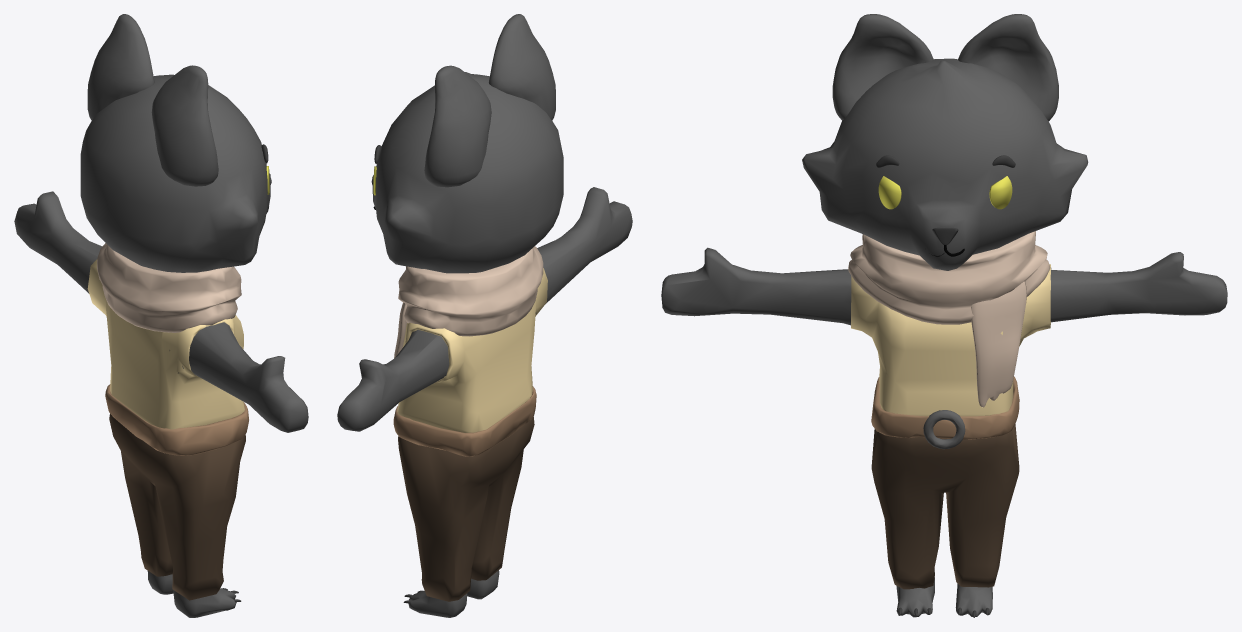
File: kolbein_PRueba_rig_unity.fbx
3 views of the same model, side by side, from view 1: azimuth 30°, elevation 25°; view 2: azimuth 150°, elevation 25°; view 3: azimuth 270°, elevation 25° (orthographic). The views are drawn at different scales.
Visible parts, largest first — view 1: Cabeza, pantalones, cuerpo, camiseta, bufanda copia, oreja der.001, oreja der, Torus.002; view 2: Cabeza, pantalones, cuerpo, camiseta, bufanda copia, oreja der, oreja der.001, Torus.002; view 3: Cabeza, cuerpo, pantalones, camiseta, bufanda copia, oreja der, oreja der.001, Cube, Torus.002, Torus.003.
Part boxes in pixels (left/top/right/bottom): Cabeza: left=80, top=74, right=270, bottom=272; pantalones: left=109, top=413, right=245, bottom=600; cuerpo: left=14, top=191, right=308, bottom=617; camiseta: left=87, top=259, right=244, bottom=429; bufanda copia: left=97, top=243, right=241, bottom=332; oreja der.001: left=151, top=65, right=218, bottom=186; oreja der: left=87, top=14, right=154, bottom=120; Torus.002: left=105, top=384, right=248, bottom=455; Cabeza: left=372, top=72, right=563, bottom=273; pantalones: left=398, top=416, right=534, bottom=601; cuerpo: left=337, top=187, right=632, bottom=617; camiseta: left=397, top=268, right=547, bottom=432; bufanda copia: left=398, top=246, right=543, bottom=336; oreja der: left=424, top=65, right=491, bottom=187; oreja der.001: left=488, top=14, right=555, bottom=120; Torus.002: left=393, top=386, right=536, bottom=456; Cabeza: left=802, top=58, right=1088, bottom=270; cuerpo: left=661, top=247, right=1227, bottom=617; pantalones: left=871, top=424, right=1019, bottom=589; camiseta: left=851, top=264, right=1051, bottom=416; bufanda copia: left=848, top=231, right=1050, bottom=324; oreja der: left=958, top=14, right=1058, bottom=121; oreja der.001: left=832, top=14, right=933, bottom=120; Cube: left=971, top=281, right=1026, bottom=407; Torus.002: left=871, top=376, right=1019, bottom=439; Torus.003: left=923, top=410, right=965, bottom=449.
Bounding box in the file's own units: 172 × 548 × 484.
